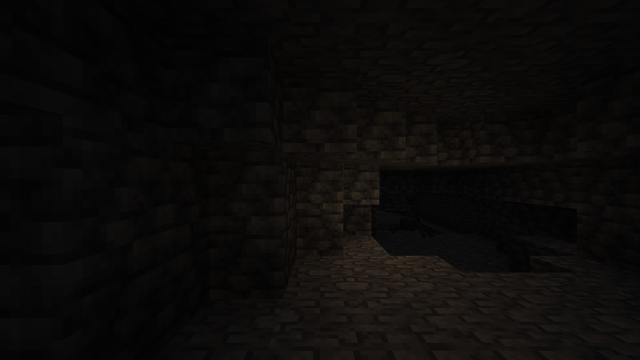araignees: (394, 213, 433, 236)
